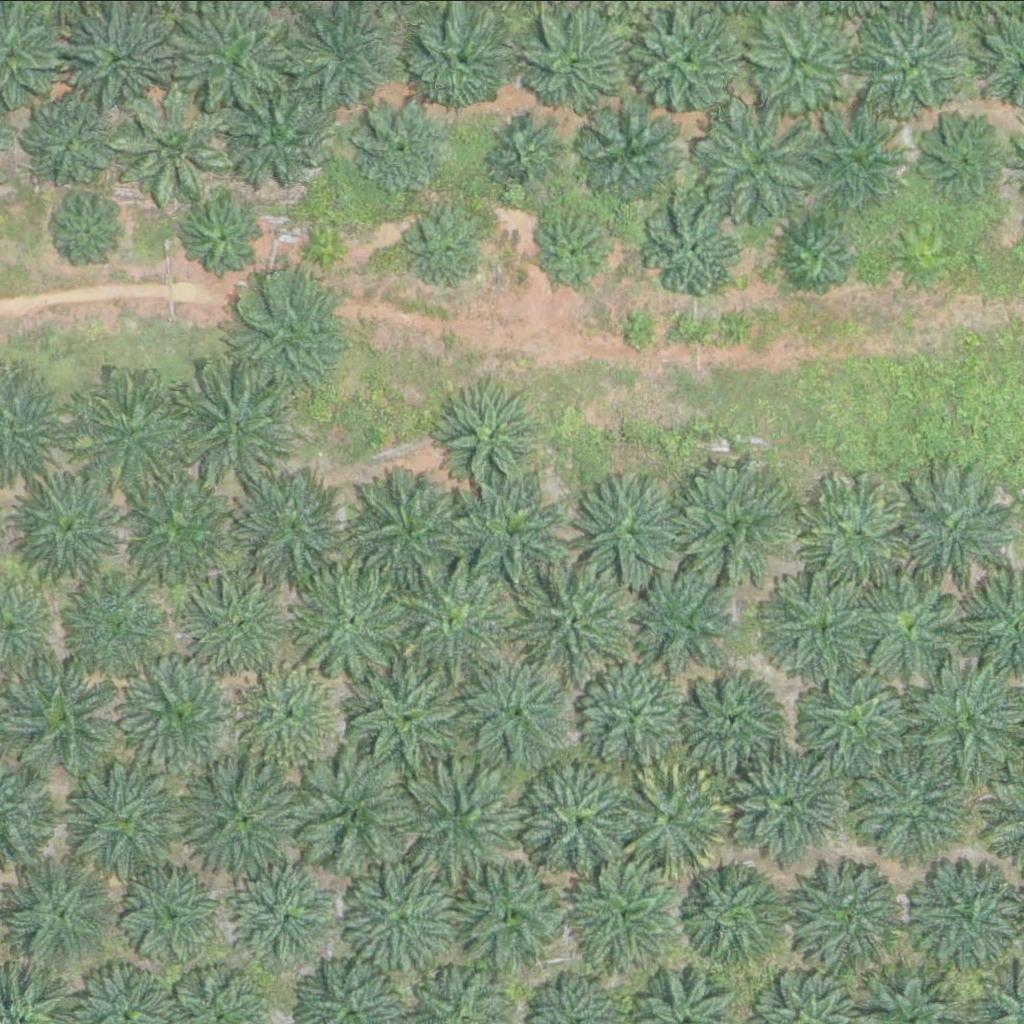Kelapa_Sawit: (1, 661, 127, 786), (122, 458, 248, 583), (78, 368, 204, 493), (171, 366, 297, 491), (349, 469, 475, 594), (570, 463, 696, 588), (666, 464, 792, 589), (518, 562, 644, 687), (390, 555, 516, 680), (293, 563, 419, 688), (350, 658, 476, 783), (522, 760, 648, 885), (401, 766, 527, 891), (297, 742, 423, 867), (180, 753, 306, 878), (449, 851, 575, 976), (692, 102, 818, 227), (758, 563, 884, 688), (794, 656, 920, 781), (796, 469, 922, 594), (786, 851, 912, 976), (854, 748, 980, 873), (726, 743, 852, 868), (896, 465, 1022, 590), (225, 266, 350, 391), (619, 753, 744, 878), (561, 851, 686, 976), (71, 765, 185, 878), (128, 653, 242, 766), (232, 657, 346, 770), (115, 91, 228, 204), (519, 9, 632, 122), (438, 378, 551, 491), (636, 568, 749, 681), (462, 654, 575, 767), (576, 656, 689, 769), (6, 853, 120, 965), (452, 473, 566, 585), (63, 564, 176, 676), (224, 75, 337, 187), (237, 473, 350, 585), (180, 566, 293, 678), (229, 855, 342, 967), (351, 860, 464, 972), (751, 2, 864, 114), (802, 101, 915, 213), (858, 6, 971, 118), (129, 862, 230, 962), (27, 91, 128, 191), (353, 94, 454, 194), (584, 102, 685, 202), (677, 674, 778, 774), (677, 864, 778, 964), (647, 198, 747, 298), (866, 576, 966, 676), (405, 201, 493, 289), (533, 203, 621, 291), (181, 191, 269, 279), (916, 114, 1004, 201), (781, 217, 857, 292), (57, 191, 132, 266), (488, 115, 563, 190), (304, 218, 342, 256), (624, 311, 662, 348)
